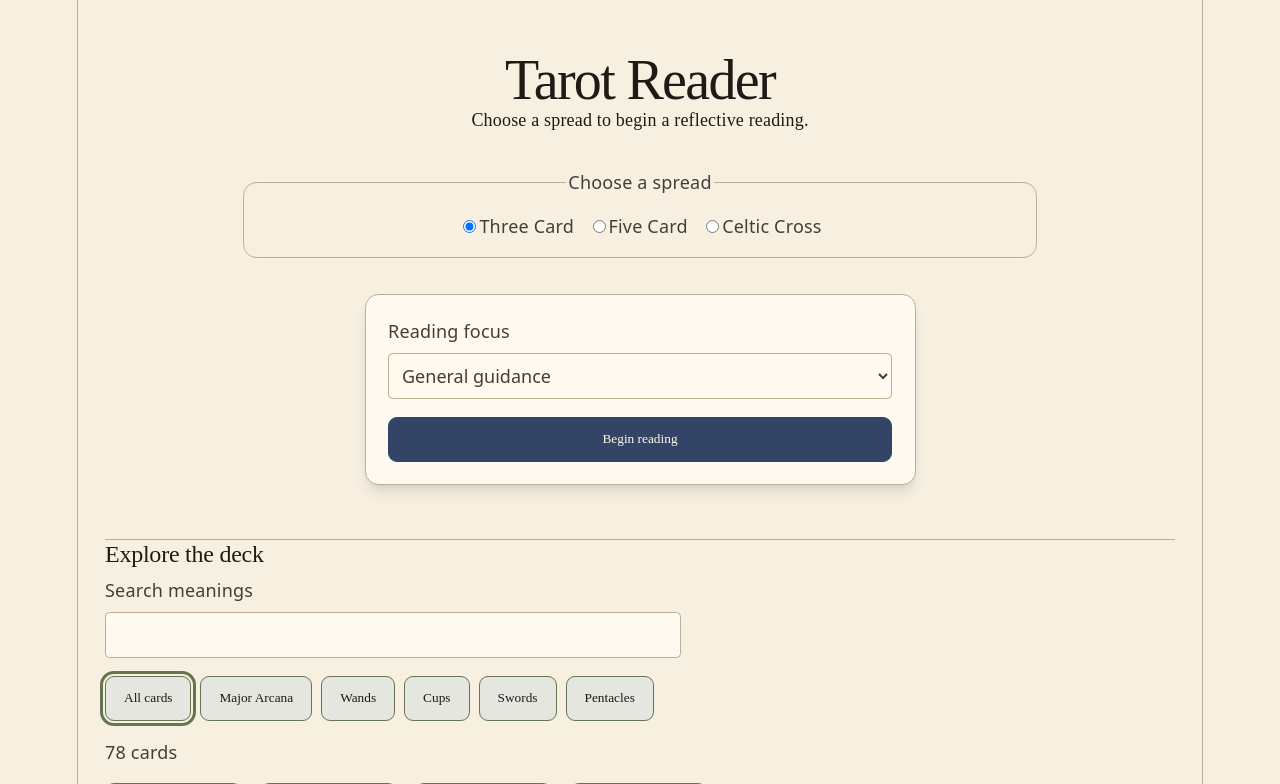
Test: adds a progressive narrative after a card is revealed
Click the button "Begin reading" at x=640, y=440, box [388, 417, 892, 462]
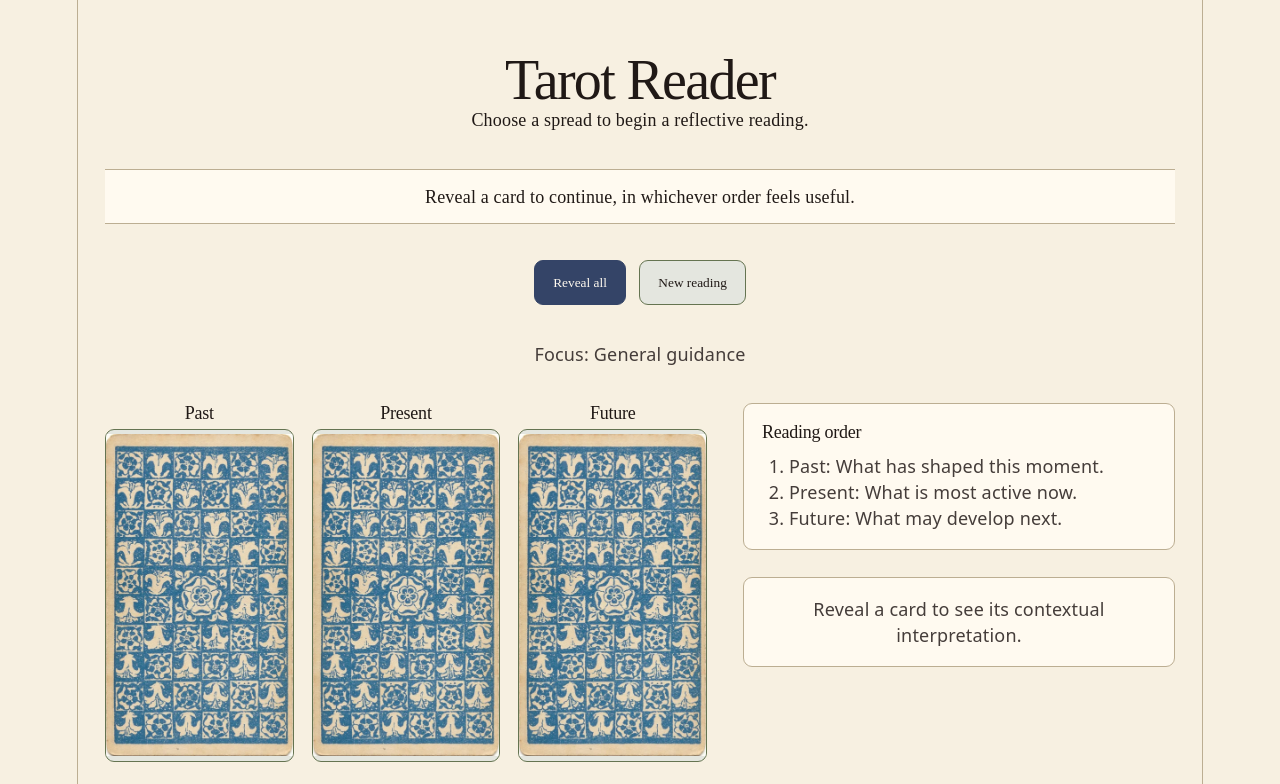
Expected: the element "reading so far" is not shown
Click the button named "past: face down" at x=199, y=595, box [105, 429, 294, 762]
(page scrolled)
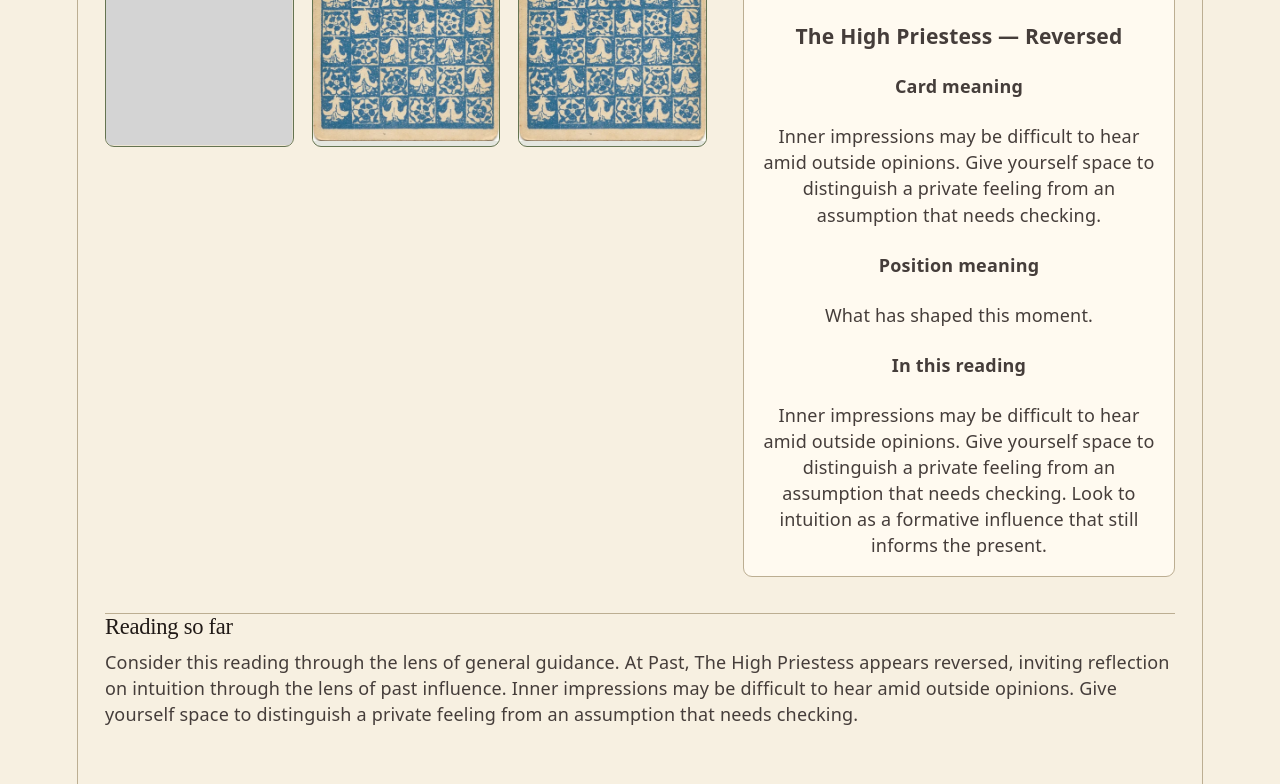
Result: the text "At Past," is shown at [105, 650, 1170, 726]
